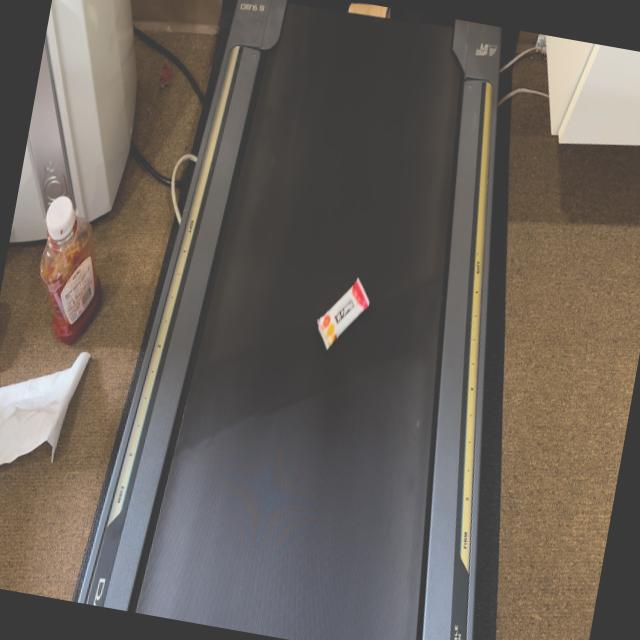Trash: (312, 274, 382, 356), (330, 0, 403, 26)
